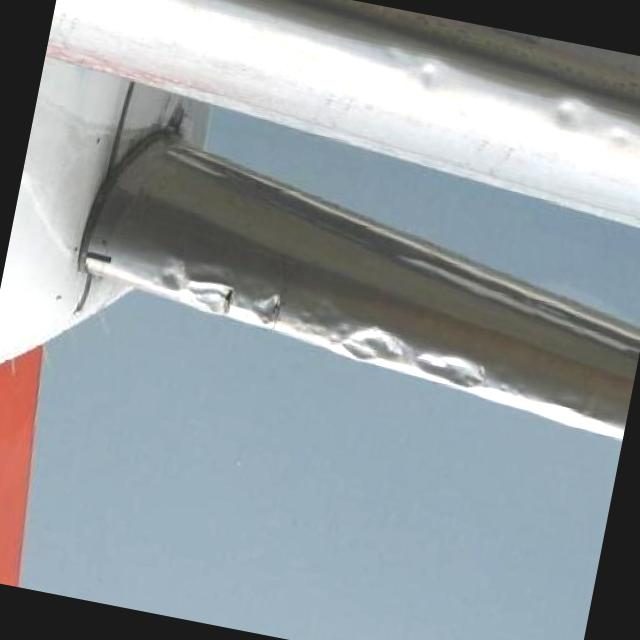dent: (405, 341, 500, 396), (322, 310, 408, 370), (542, 84, 596, 140), (188, 266, 244, 318), (146, 248, 197, 302), (404, 49, 446, 102), (250, 284, 286, 330)
